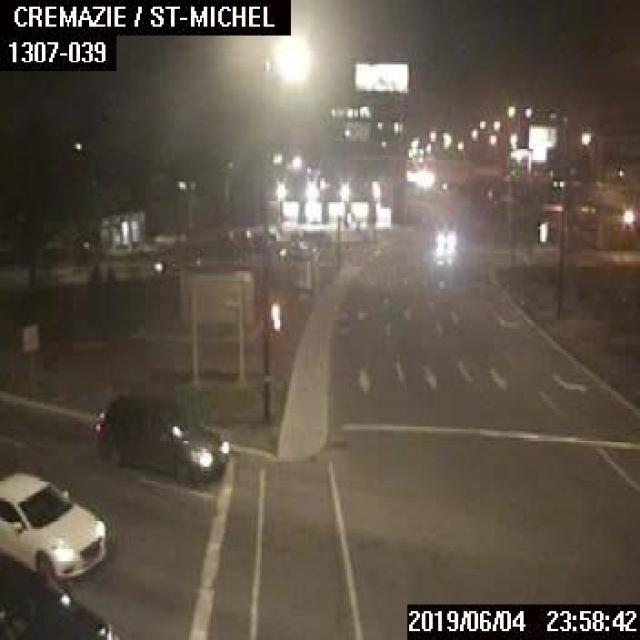vehicle: (91, 391, 230, 482), (0, 469, 105, 580), (0, 558, 120, 638), (104, 239, 156, 256), (435, 224, 456, 249)
